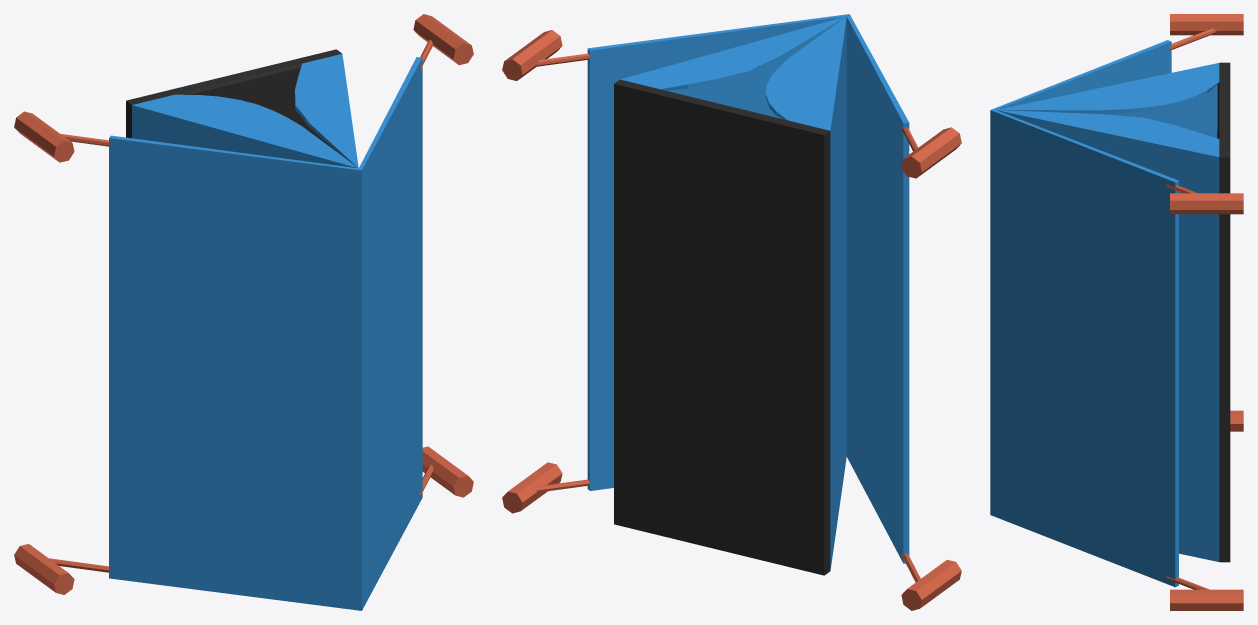
File: Tent.fbx
3 views of the same model, side by side, from view 1: azimuth 30°, elevation 25°; view 2: azimuth 150°, elevation 25°; view 3: azimuth 270°, elevation 25° (orthographic). The views are drawn at different scales.
Visible parts, largest first — view 1: Cube; view 2: Cube; view 3: Cube.
Part boxes in pixels (box(x1,y1,x2,y2)): Cube: box(14, 14, 473, 610); Cube: box(502, 14, 961, 610); Cube: box(990, 14, 1243, 610).
Size of the model in its own units: 399 by 413 by 227.
